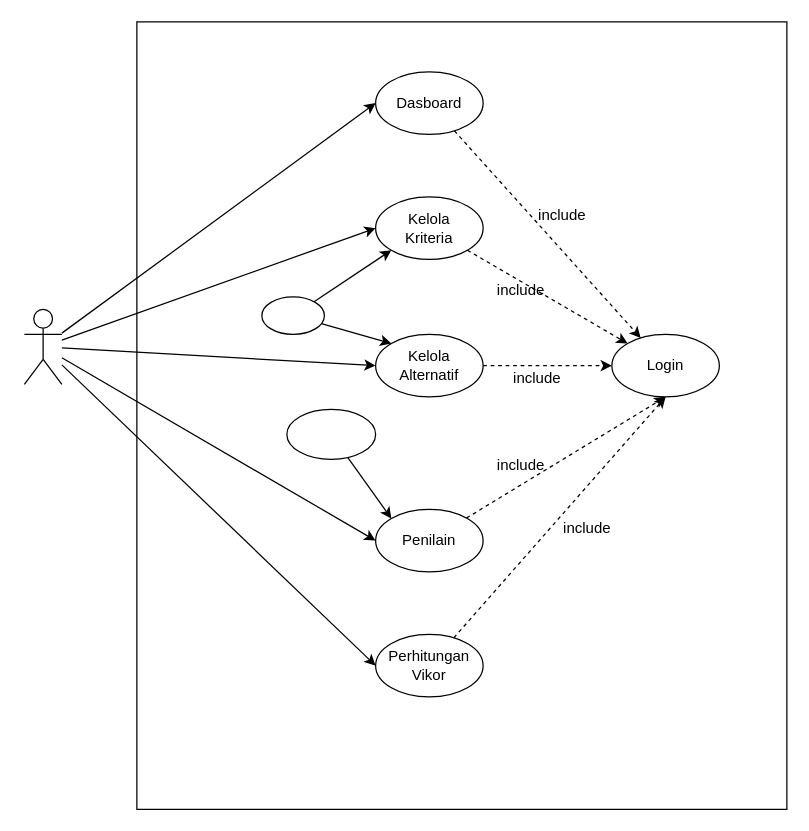
Some shapes in this 809 by 831 pixel diagram are drawn without their labels. The centre of each missing label's shape, as x and y in pixels:
Admin: the point at 42,346
crud: the point at 292,315
masukan nilai: the point at 331,433
